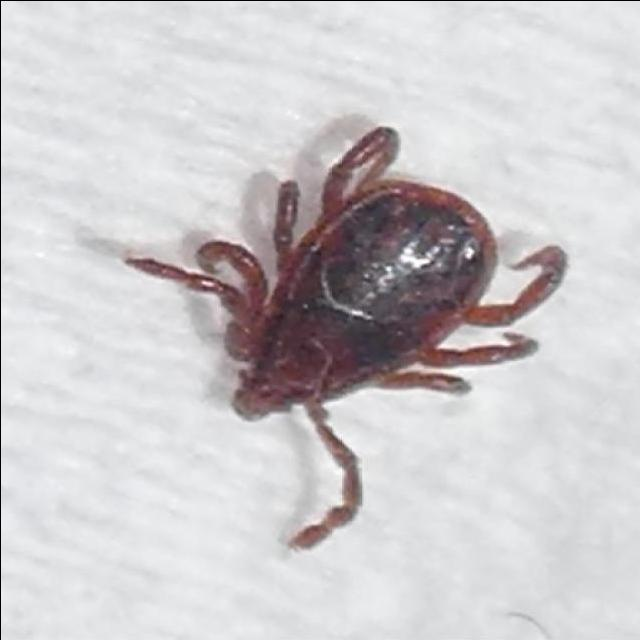Rhipicephalus Sanguineus-M: (126, 126, 569, 550)
